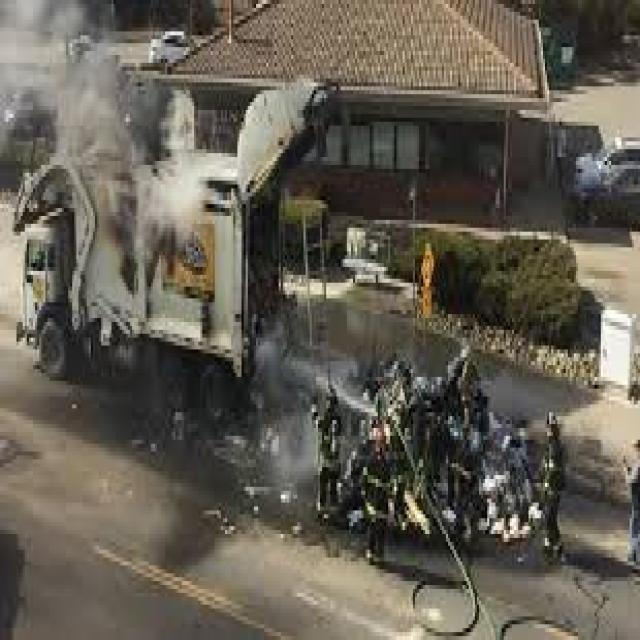Smoke: (0, 0, 209, 330), (252, 318, 334, 512)
